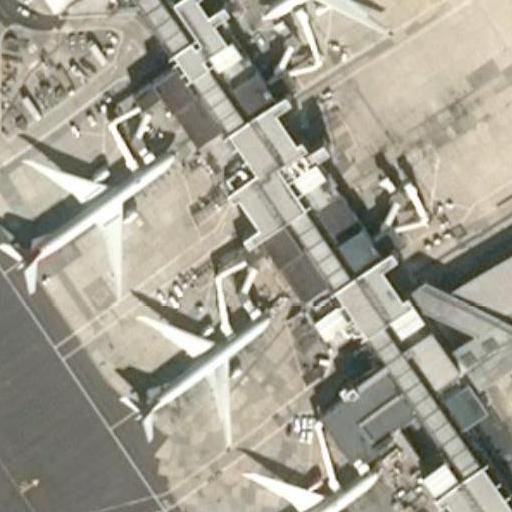Aircraft: (0, 136, 180, 300), (114, 293, 274, 457), (219, 453, 388, 512), (258, 0, 396, 35)
